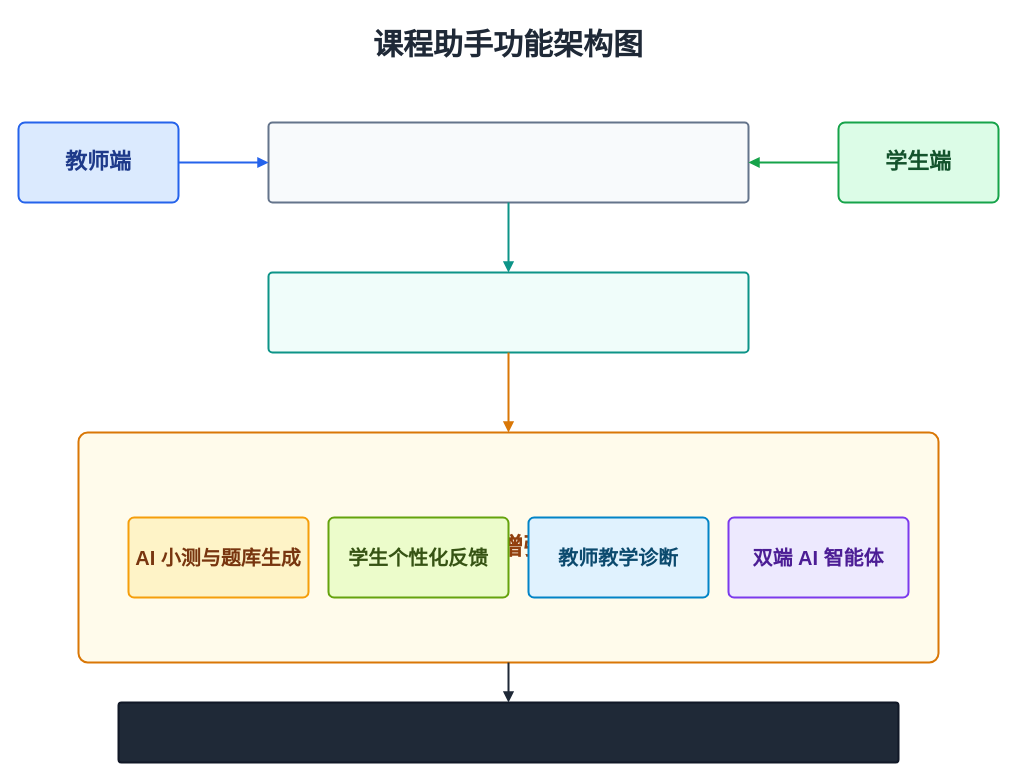
Image size: 1016x780. Some labels were removed from this diagram. Here are the shapes that lost their labels. From the top down, the centre of each, then its label:
point (508, 162): 基础教学辅助功能
point (508, 312): 教学数据中心
point (508, 732): 教学闭环：教学活动开展 → 学习数据沉淀 → AI 分析反馈 → 师生智能交互
